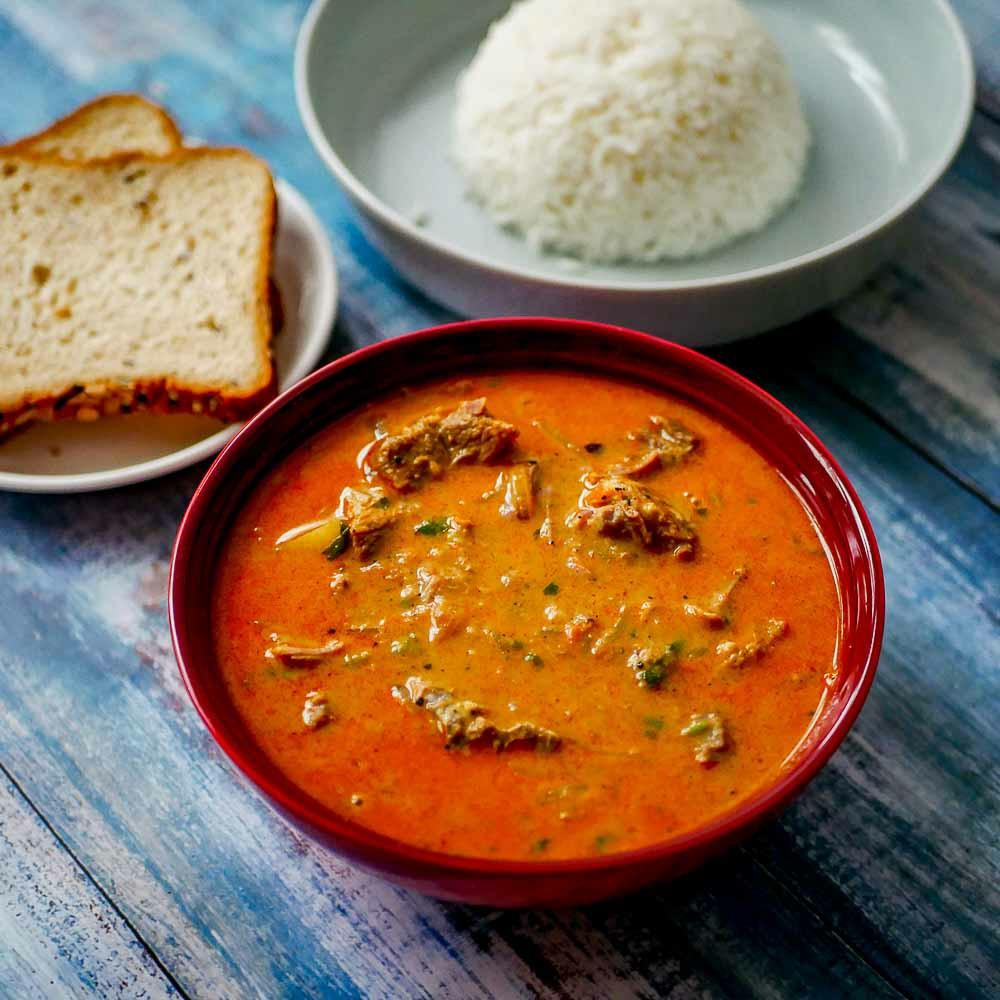MuttonCurry: (209, 372, 832, 859)
WhiteRice: (451, 0, 807, 263)
